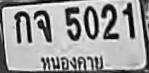0: (83, 5, 98, 39)
1: (122, 1, 133, 38)
2: (101, 3, 118, 39)
5: (64, 6, 80, 40)
A01: (13, 10, 31, 43)
A08: (33, 9, 51, 42)
NKI: (39, 53, 105, 72)
